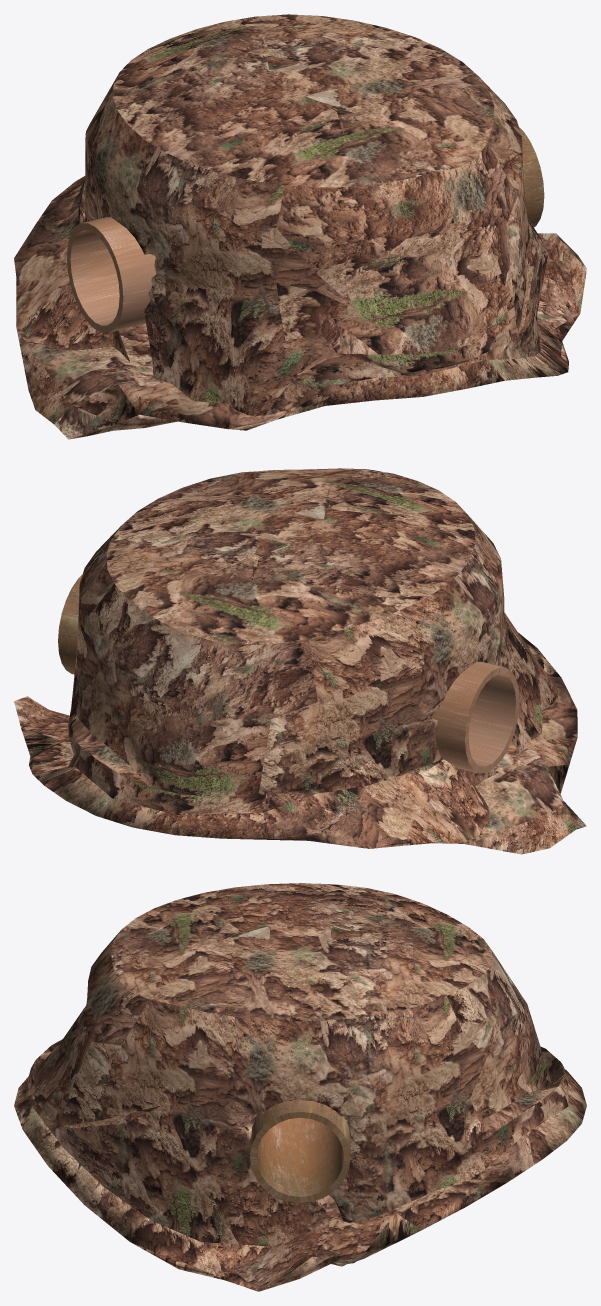
File: Mountain.FBX
3 views of the same model, one above another, from view 1: azimuth 30°, elevation 25°; view 2: azimuth 150°, elevation 25°; view 3: azimuth 270°, elevation 25° (orthographic). The views are drawn at different scales.
Visible parts, largest first — view 1: Cylinder003, Tube001; view 2: Cylinder003, Tube001; view 3: Cylinder003, Tube001.
Boxes of the visible parts, x1,y1,x2,y2 form: Cylinder003: [14, 14, 586, 439]; Tube001: [67, 127, 544, 332]; Cylinder003: [14, 468, 586, 854]; Tube001: [58, 574, 519, 773]; Cylinder003: [14, 883, 586, 1291]; Tube001: [250, 1100, 350, 1202].
Size of the model in its own units: 259 by 128 by 262.
Materials: 2 (2 with a texture image).
